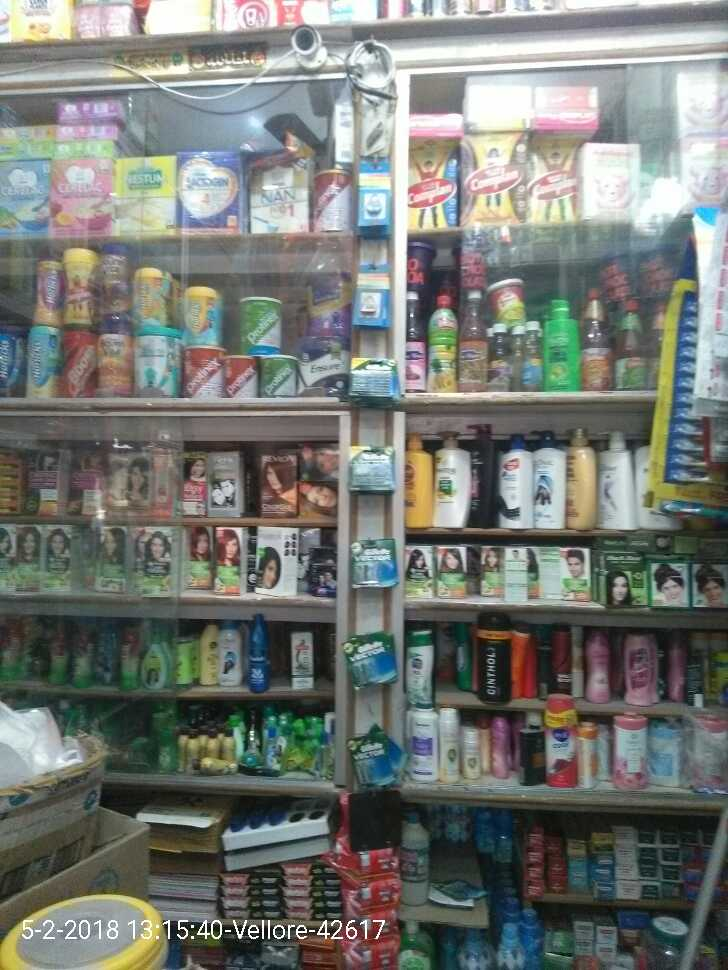gillette: (334, 524, 406, 599), (339, 713, 408, 788), (342, 632, 412, 688), (345, 435, 401, 494), (347, 347, 401, 402)
